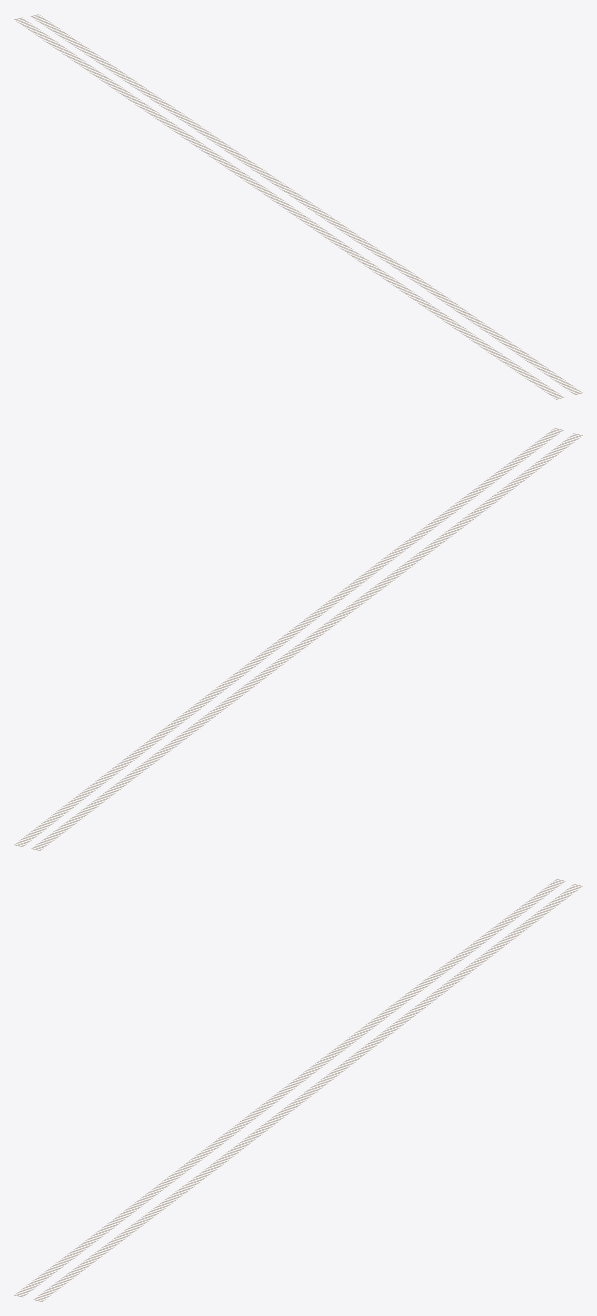
The model's file is c_1629_17840_rail_sleeper.glb.
3 renders of one model, top to bottom at view 1: azimuth 30°, elevation 25°; view 2: azimuth 150°, elevation 25°; view 3: azimuth 330°, elevation 25°, orthographic. The views are drawn at different scales.
Visible parts, largest first — view 1: geometry_0; view 2: geometry_0; view 3: geometry_0.
Boxes of the visible parts, <box> form: geometry_0: <box>14,14,582,399</box>; geometry_0: <box>14,428,582,850</box>; geometry_0: <box>14,879,582,1301</box>.
Bounding box in the file's own units: 12.51 × 0.2772 × 255.
